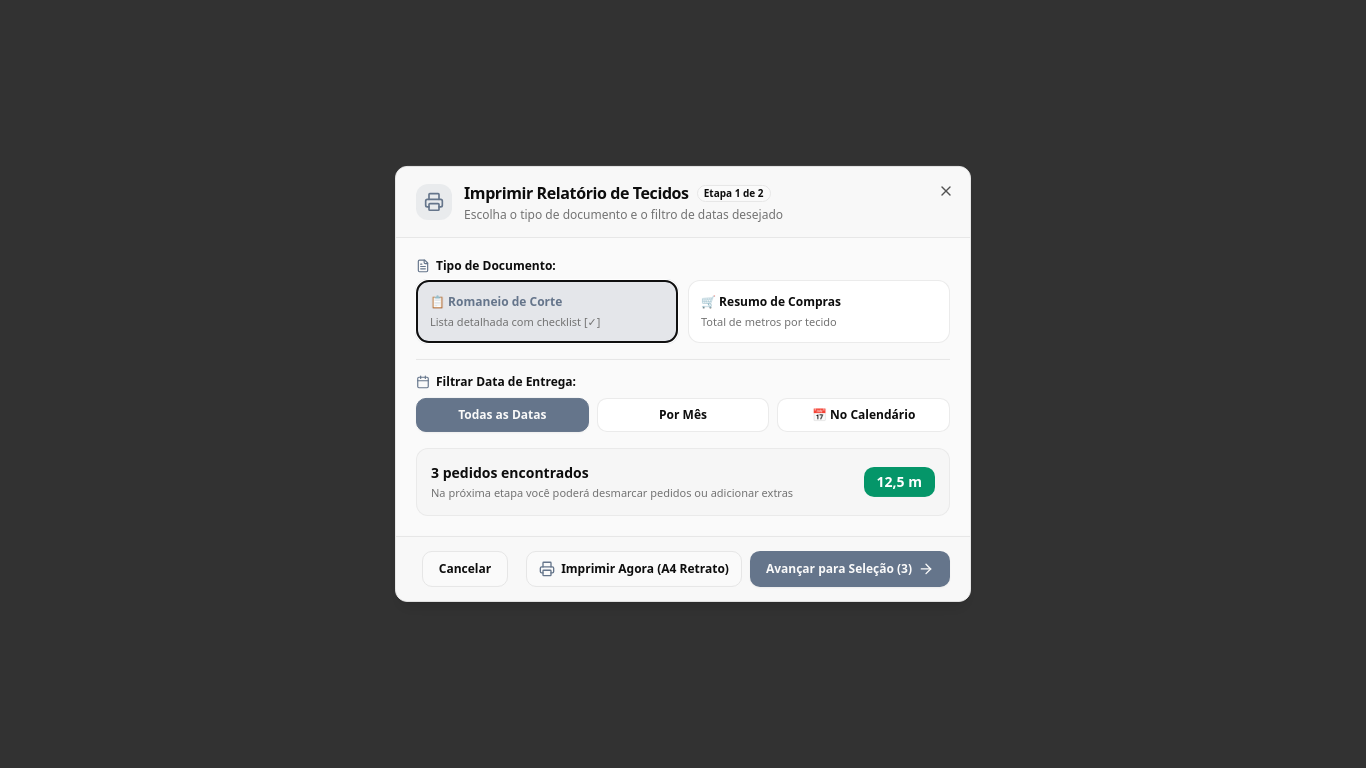
Test: ModalImpressaoTecidos & Helpers › Renderização e Fluxo do ModalImpressaoTecidos › deve permitir adicionar pedidos de outras datas que não estavam no filtro inicial
Note: Na Etapa 1, seleciona "Por Mês"
Click the button "Por Mês": {"x": 683, "y": 415} [597,398,769,432]
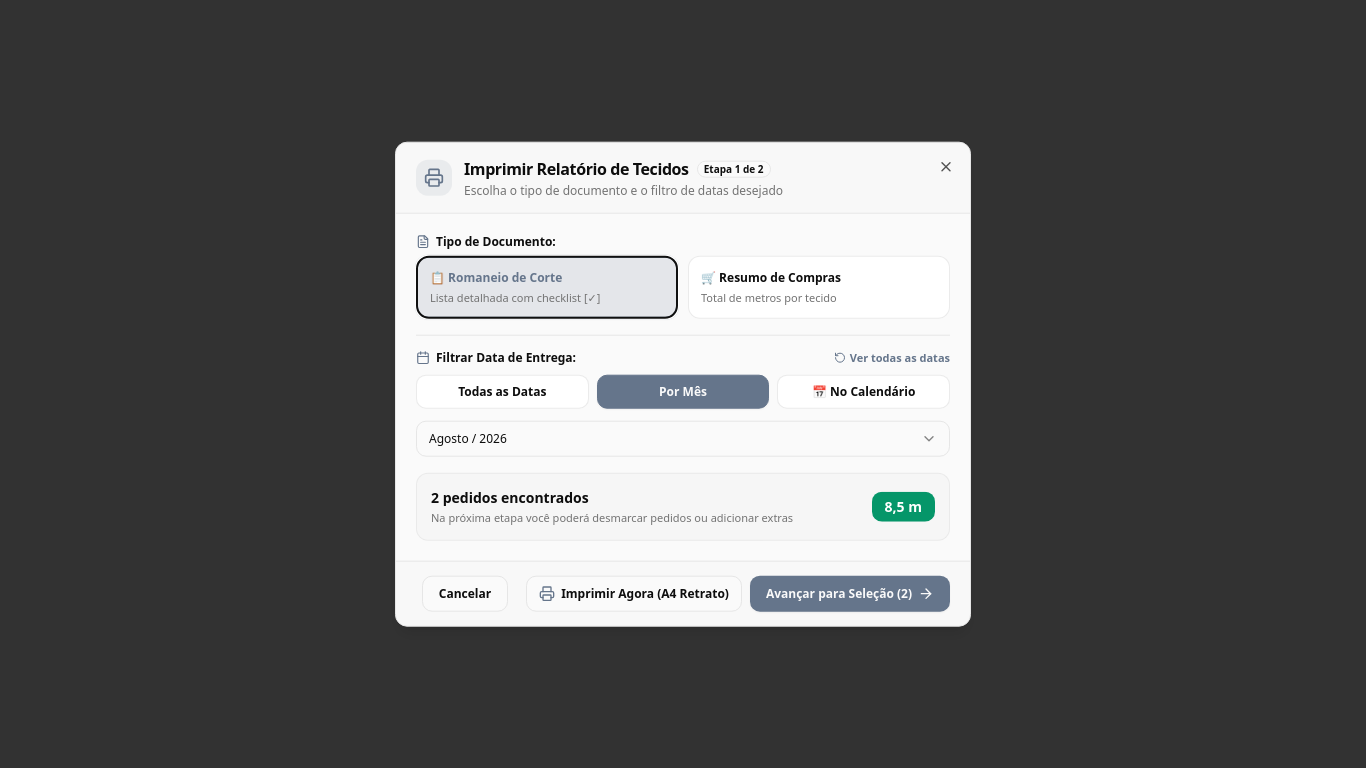
Note: Avança para a Etapa 2 (vai conter os pedidos de Agosto ou do mês padrão)
Click the button "Avançar para Seleção (2)": {"x": 850, "y": 593} [750,575,950,611]
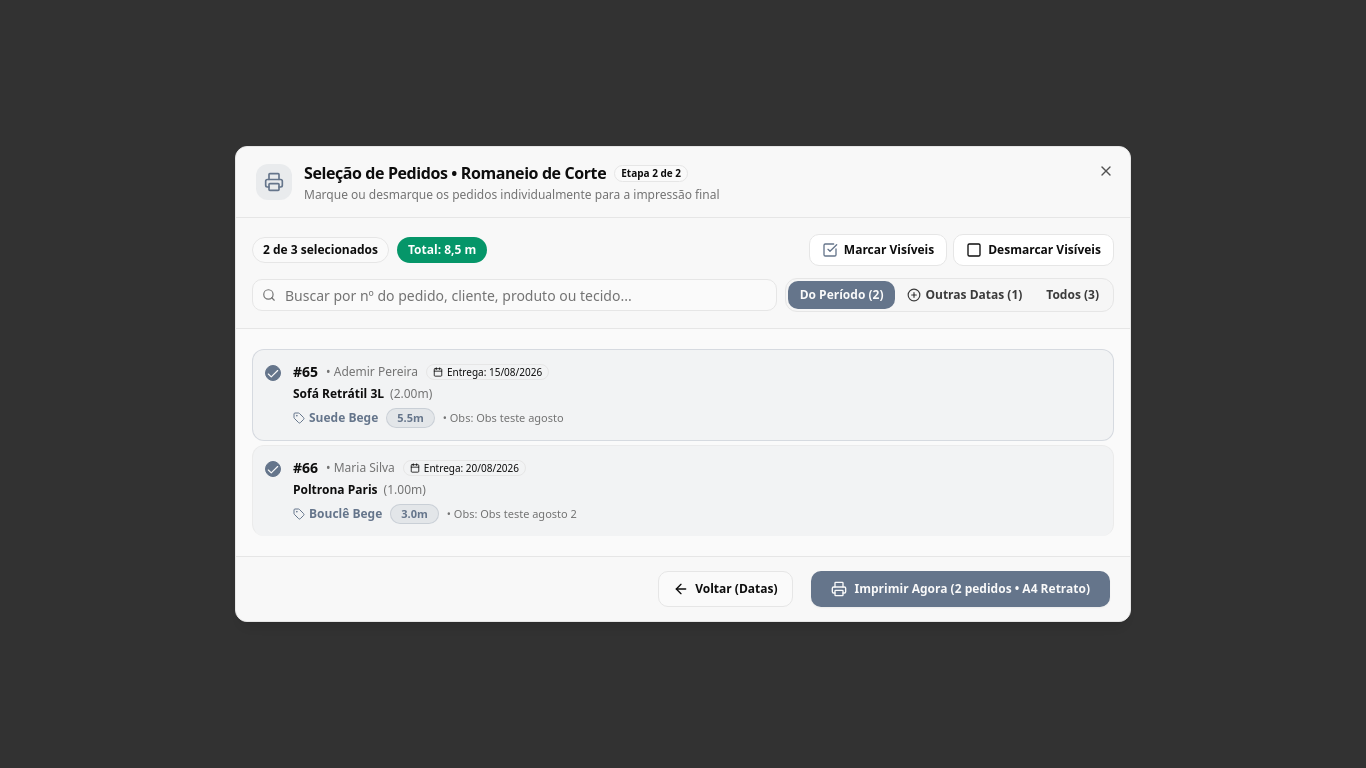
Note: Alterna para a aba "Outras Datas"
Click the button "Outras Datas (1)": {"x": 965, "y": 295} [896,281,1034,309]
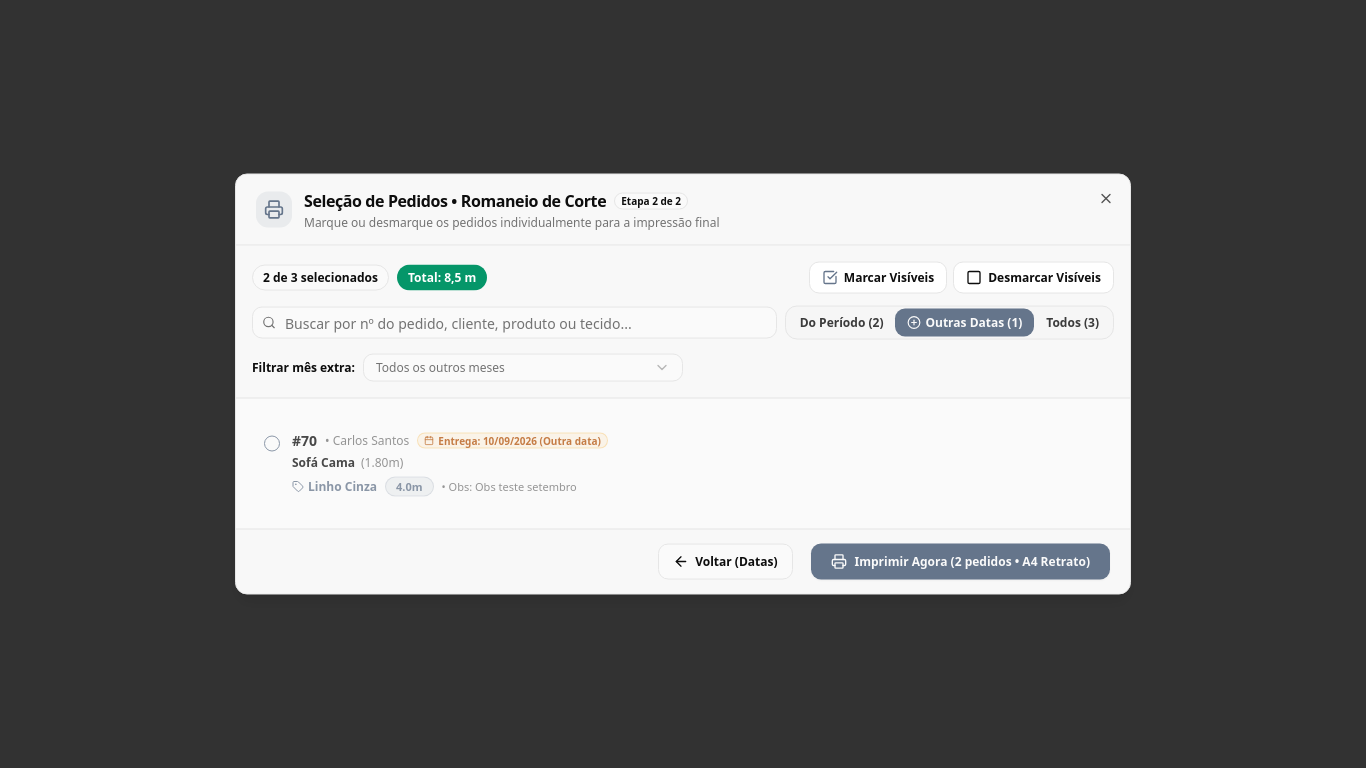
Now the text "#70" is shown, box [292,430,317,450]
Note: Clica para marcar o pedido #70
Click the checkbox named "Selecionar pedido #70": {"x": 272, "y": 444} [264,436,280,452]
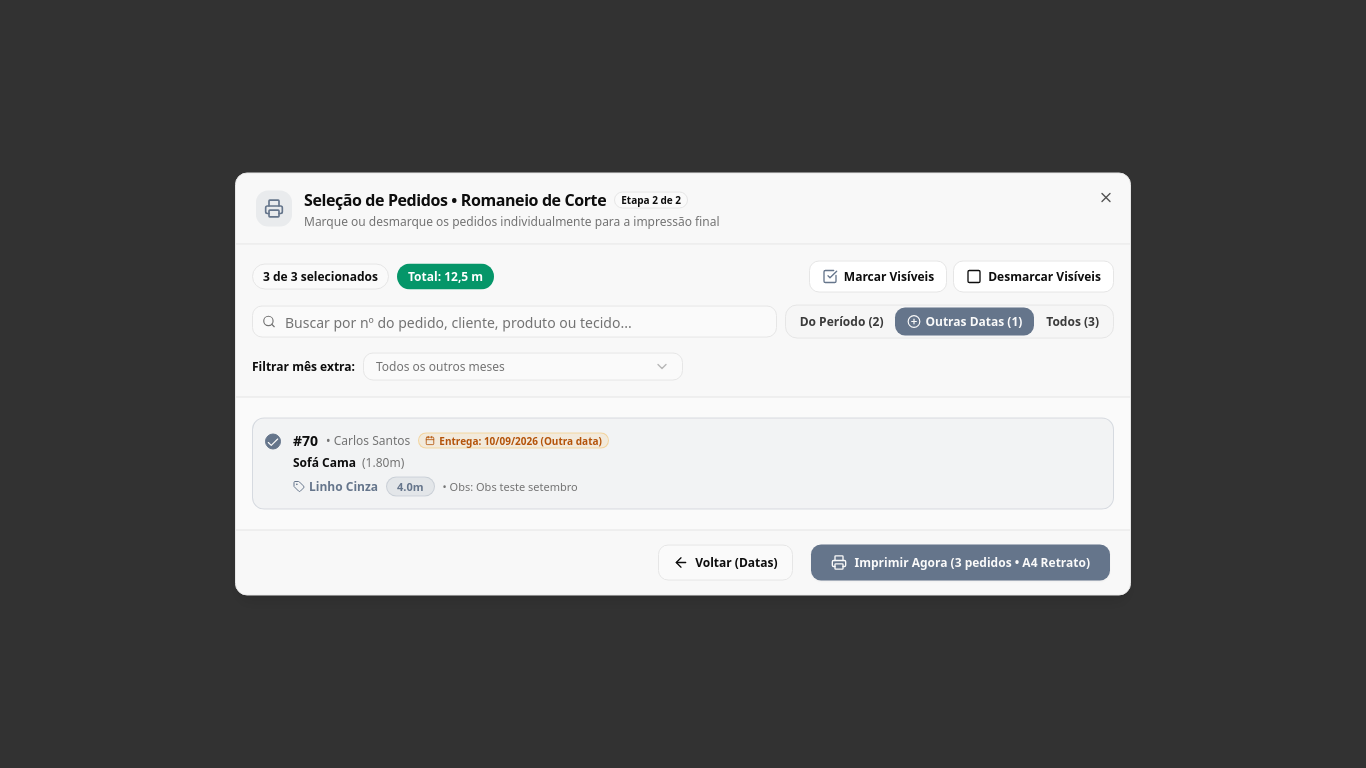
Note: Volta para a Etapa 1 usando o botão Voltar
Click the button "Voltar (Datas)": {"x": 725, "y": 562} [658,544,793,580]
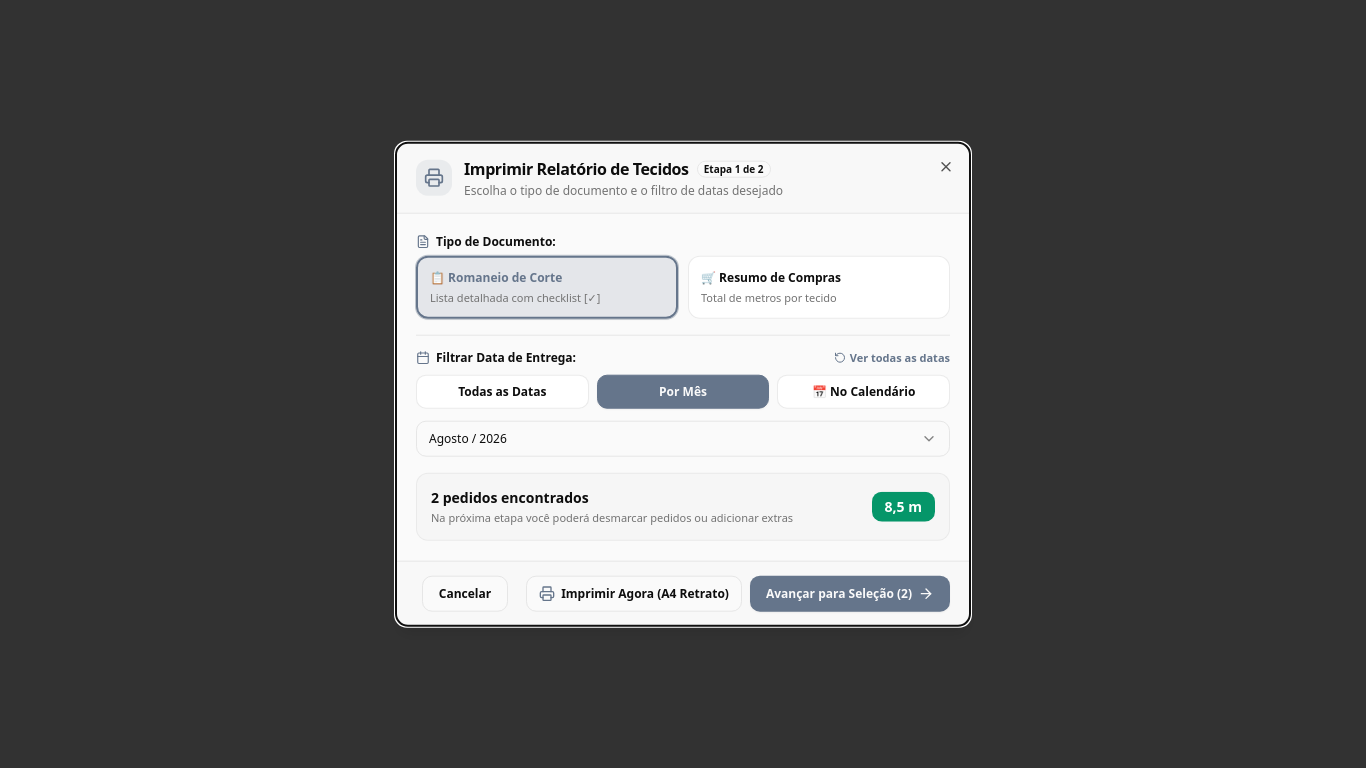
Now the text "Filtrar Data de Entrega:" is shown, box [416,350,576,366]
